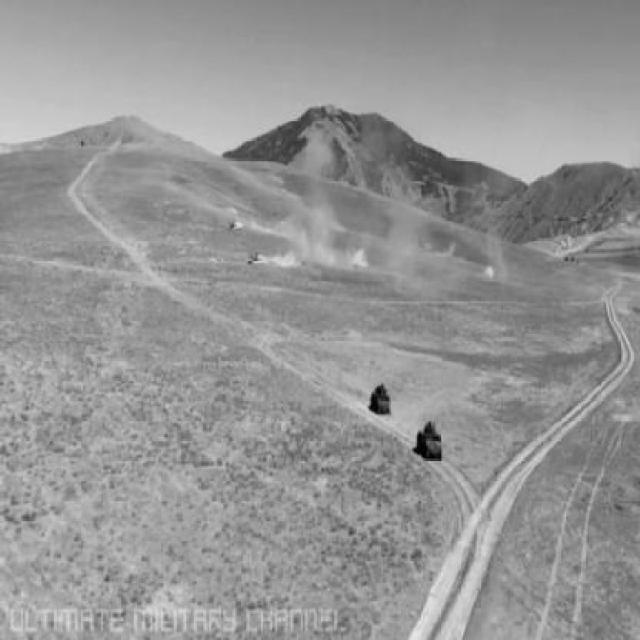Vehicle: (417, 419, 445, 461), (371, 383, 393, 416)
